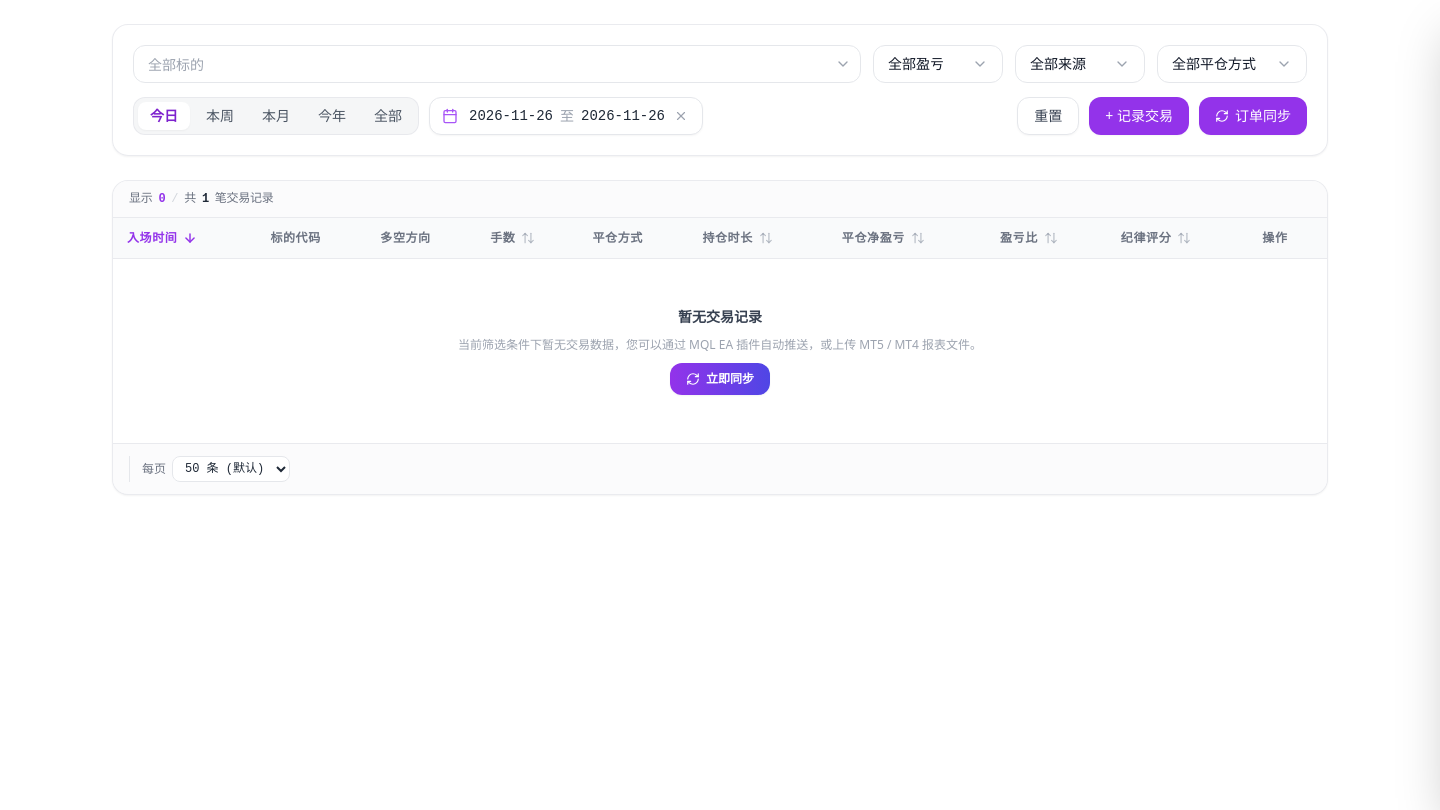
Test: TradesPage › renders "手数" column after "多空方向", left-aligned "操作" header, and unified duration style
This screenshot has width=1440, height=810.
Note: Click "全部" to view trade across dates
What coordinates should you click on to do the following:
click the button "全部"
I would click on:
 (388, 116)
Its box is x1=362 y1=102 x2=414 y2=130.
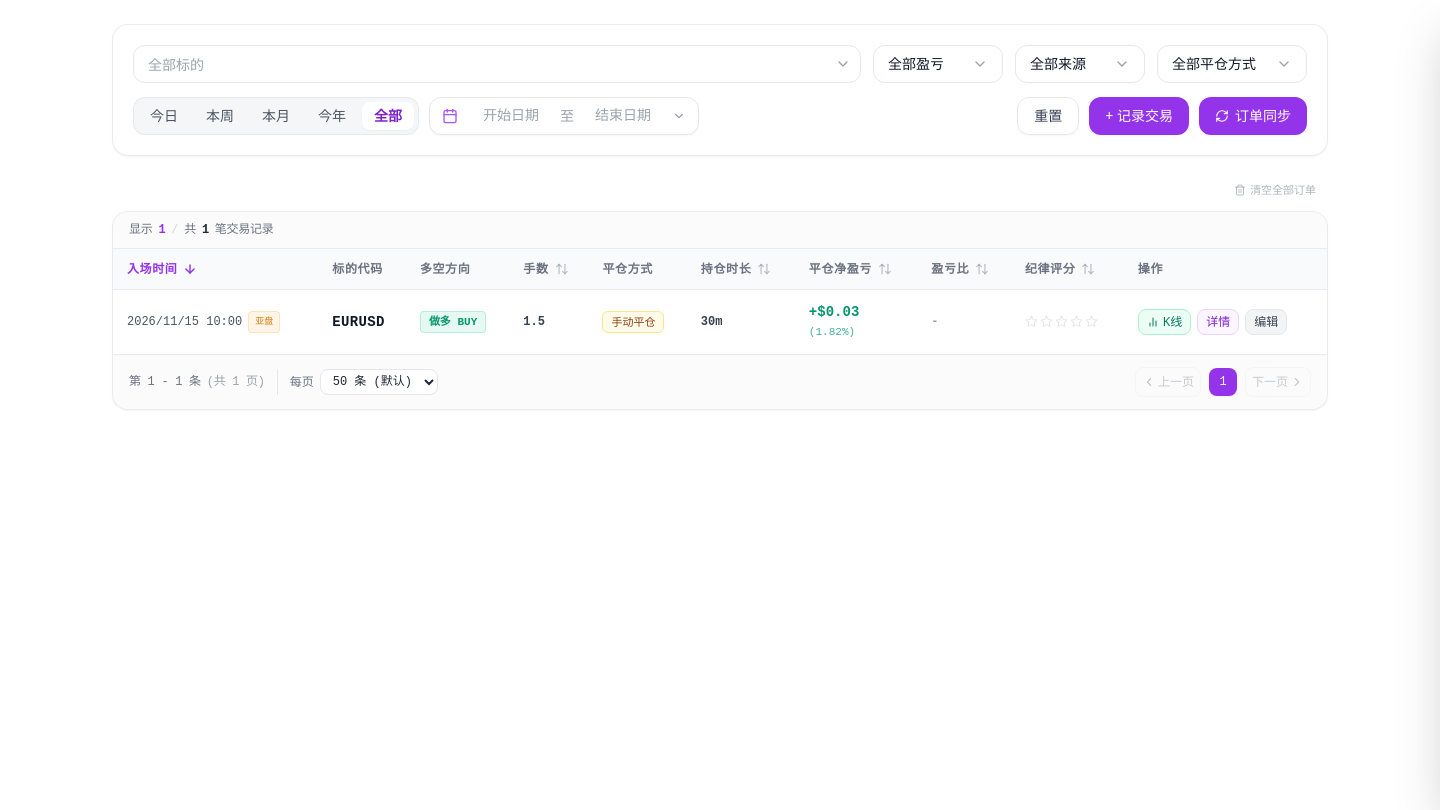
Expected: the text "手数" is shown, x1=523 y1=260 x2=548 y2=276
Expected: the text "EURUSD" is shown, x1=320 y1=289 x2=408 y2=354
Expected: the text "1.5" is shown, x1=511 y1=289 x2=590 y2=354
